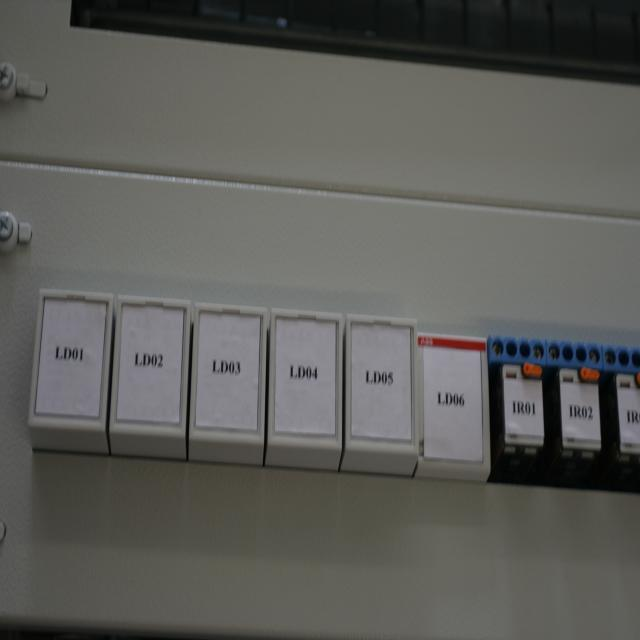Dimmer: (28, 288, 113, 428), (109, 294, 190, 434), (190, 303, 267, 442), (269, 308, 343, 448), (346, 315, 418, 457), (417, 332, 491, 467), (547, 339, 607, 489), (489, 334, 548, 485), (603, 345, 639, 491)
